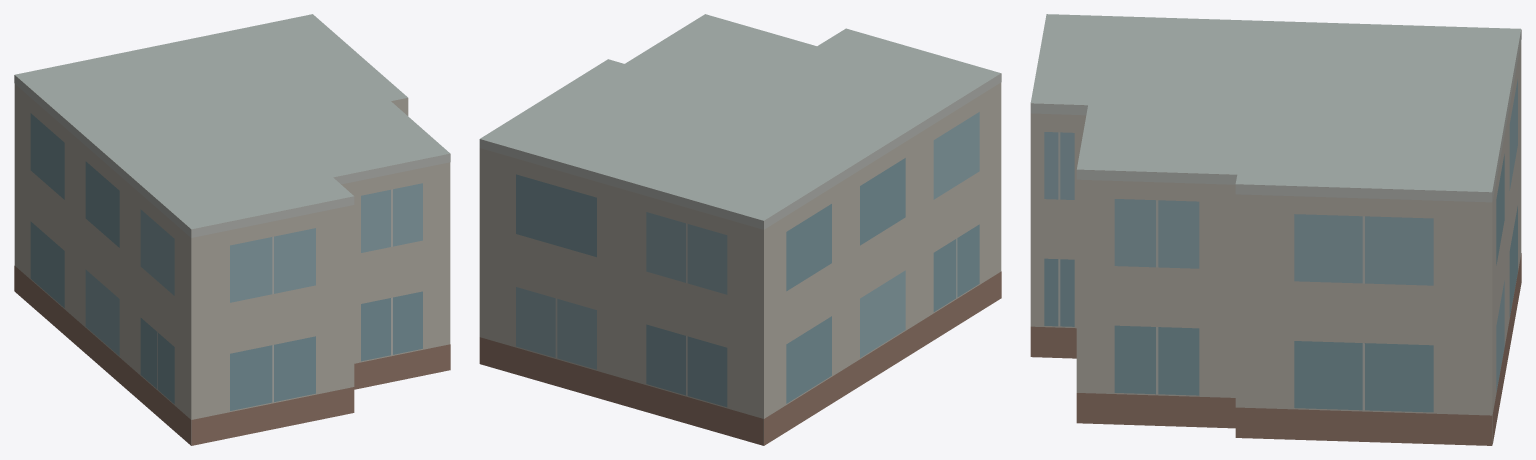
File: survey-upis-32818922.glb
3 views of the same model, side by side, from view 1: azimuth 30°, elevation 25°; view 2: azimuth 150°, elevation 25°; view 3: azimuth 270°, elevation 25° (orthographic). The views are drawn at different scales.
Parts seen in each view (by area): view 1: survey-upis-32818922.tmp; view 2: survey-upis-32818922.tmp; view 3: survey-upis-32818922.tmp.
Boxes of the visible parts, box(x1,y1,x2,y2) form: survey-upis-32818922.tmp: box(14, 14, 450, 445); survey-upis-32818922.tmp: box(479, 14, 1001, 445); survey-upis-32818922.tmp: box(1030, 14, 1521, 445).
Bounding box in the file's own units: 9.2 × 6.1 × 10.71.
